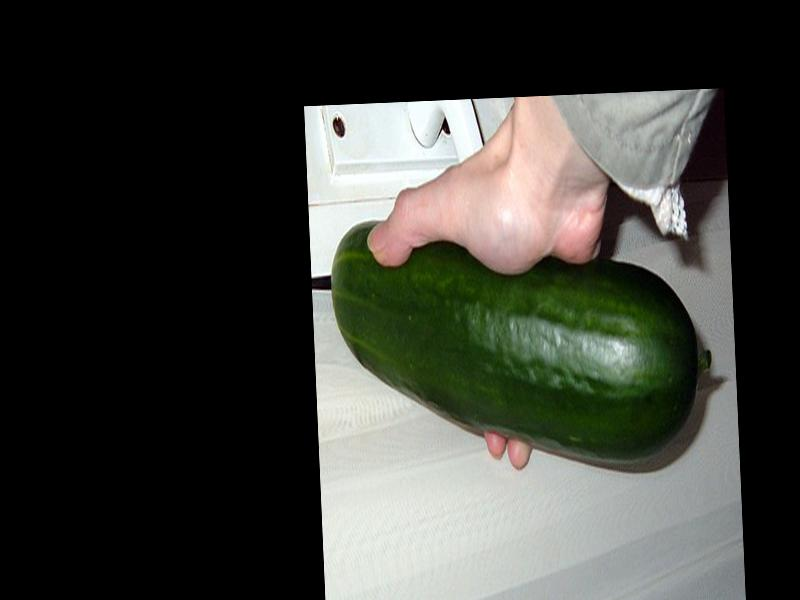Cucumber: (328, 208, 716, 484)
